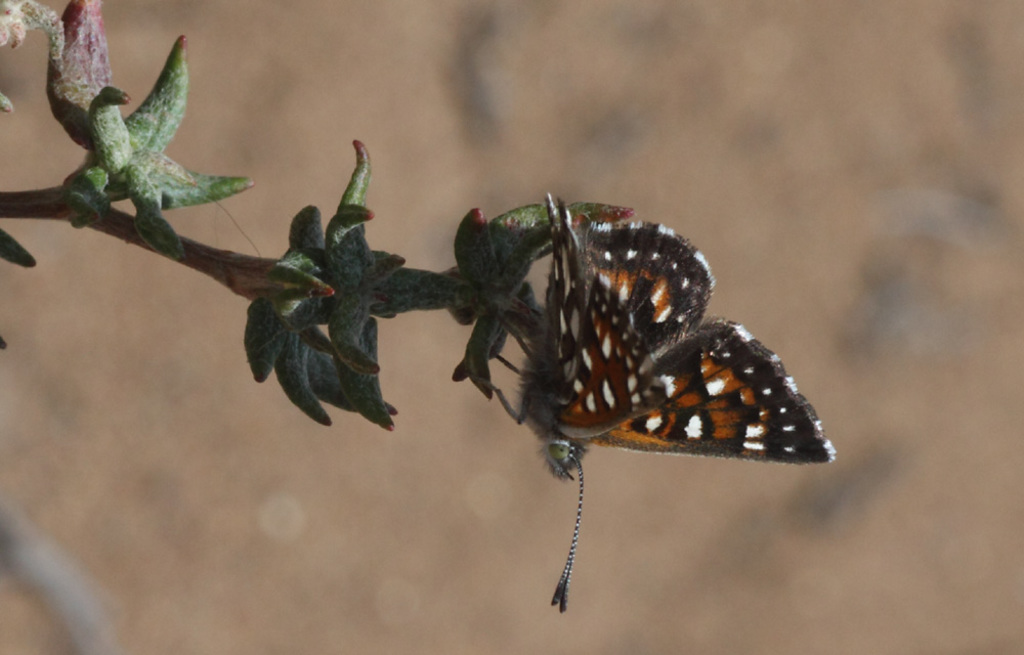Butterfly: (447, 201, 912, 611)
